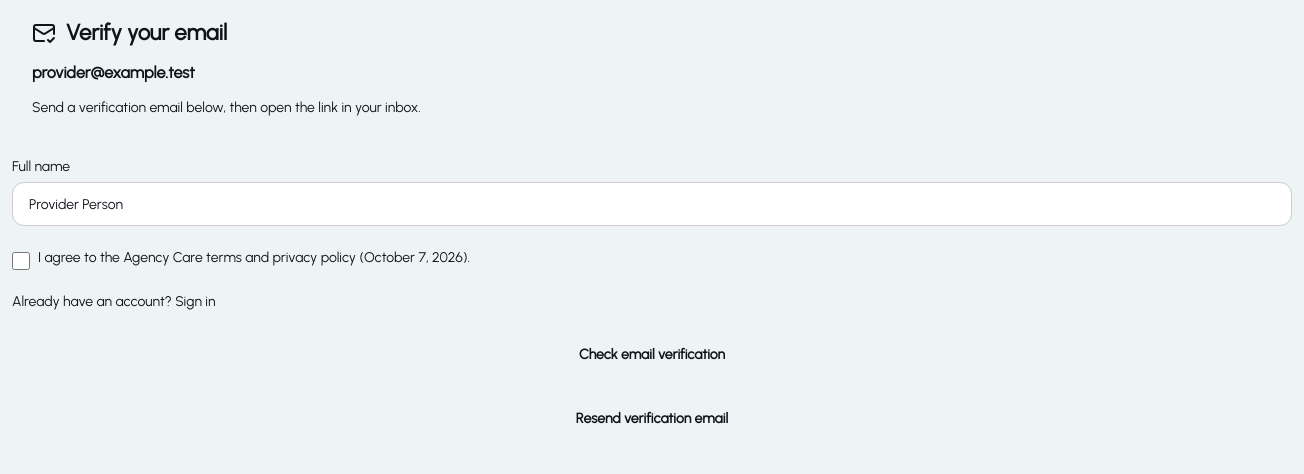
it: invitation-bound registration › resends through the custom sender with the same invitation continuation
Click the button "Resend verification email".
click(652, 419)  # box left=12, top=398, right=1292, bottom=440
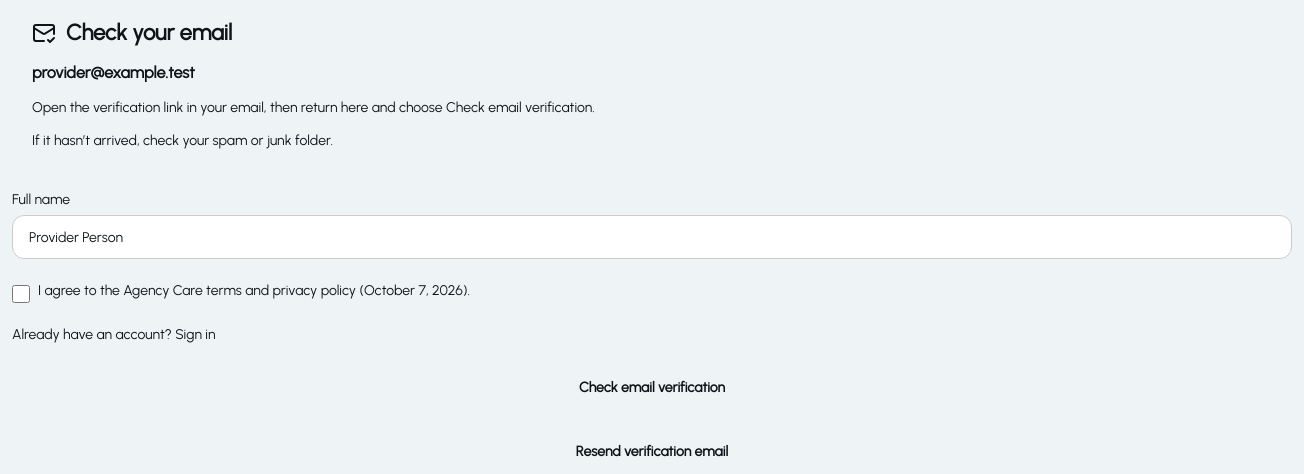
Expected: the heading "Check your email" is shown, left=66, top=16, right=232, bottom=49
